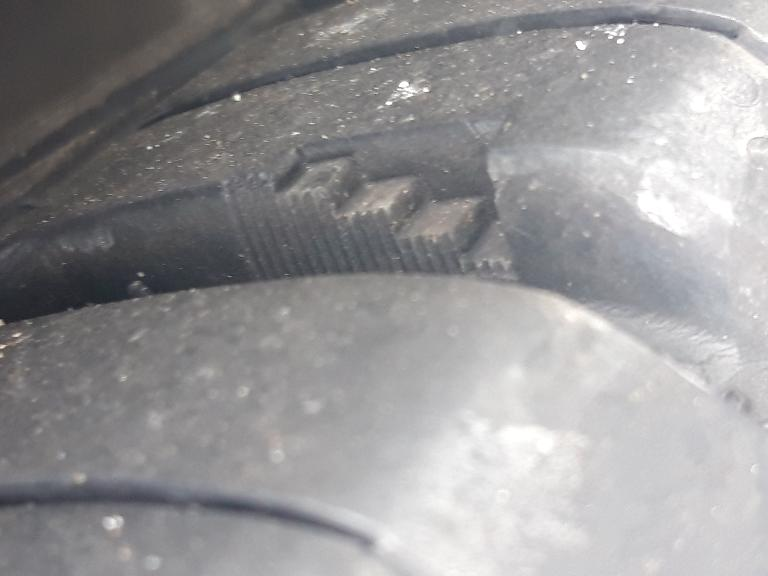temoin:90: (210, 106, 544, 300)
